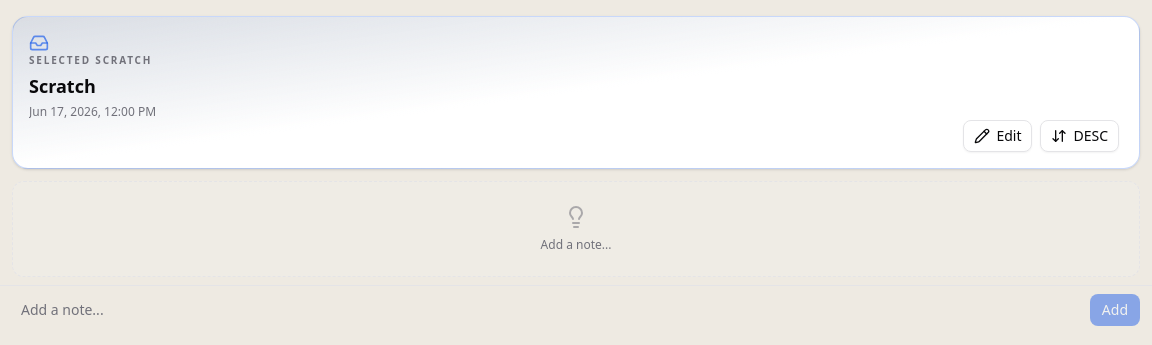
Test: BreakdownPanel › turns a confirmed local Add into the shared row signal without moving input focus
Click the button "Add a note..." at {"x": 62, "y": 310}, box [21,300,104,319]
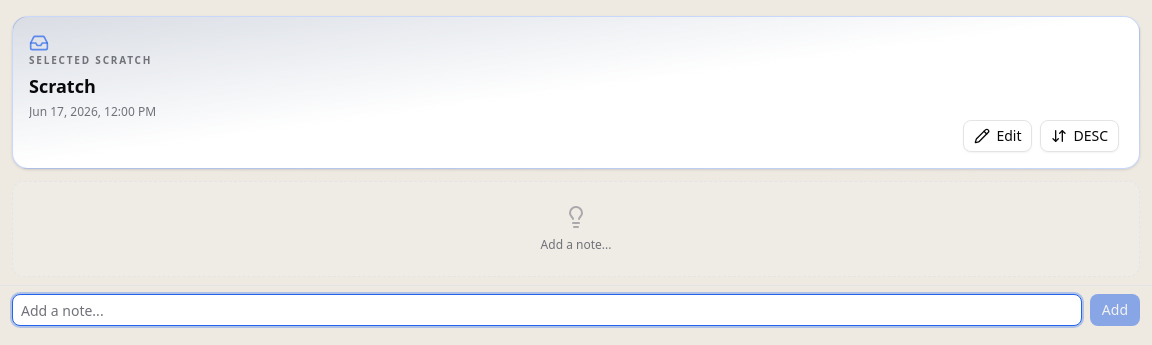
Type "New row" into the field with placeholder "Add a note..." at {"x": 547, "y": 310}, box [12,294,1082,326]
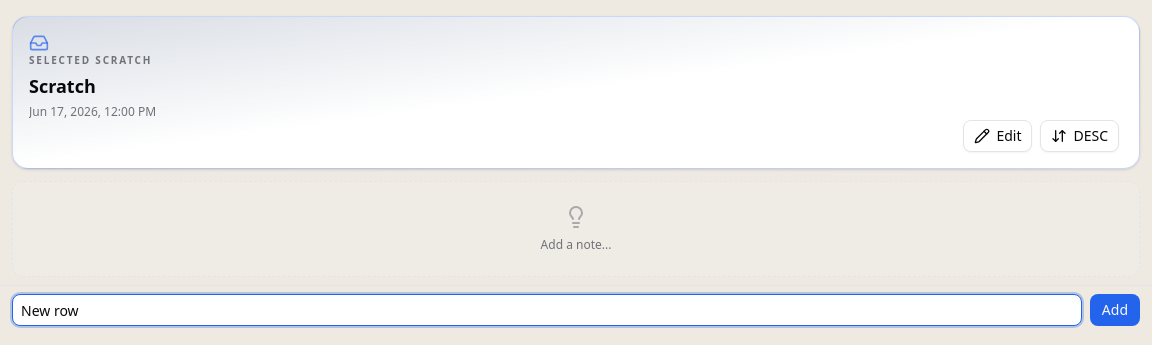
Press Enter in the field with placeholder "Add a note...", box [12,294,1082,326]
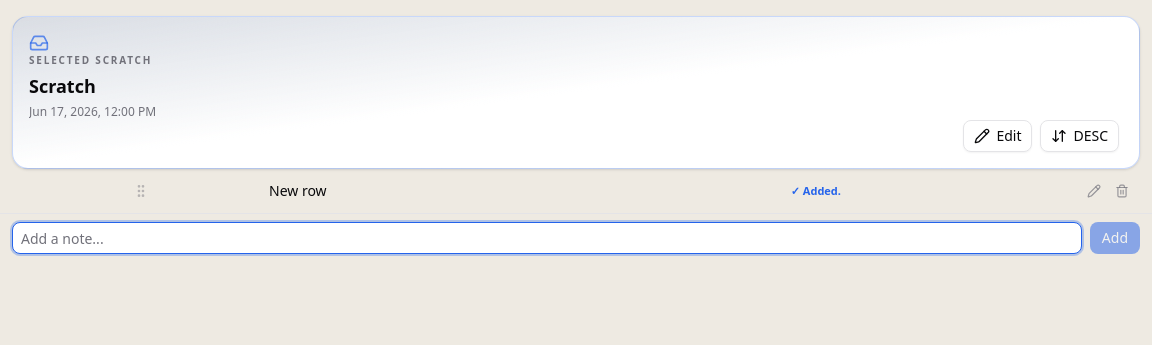
expect the message reads "✓ Added.": met, box [791,183,841,199]
